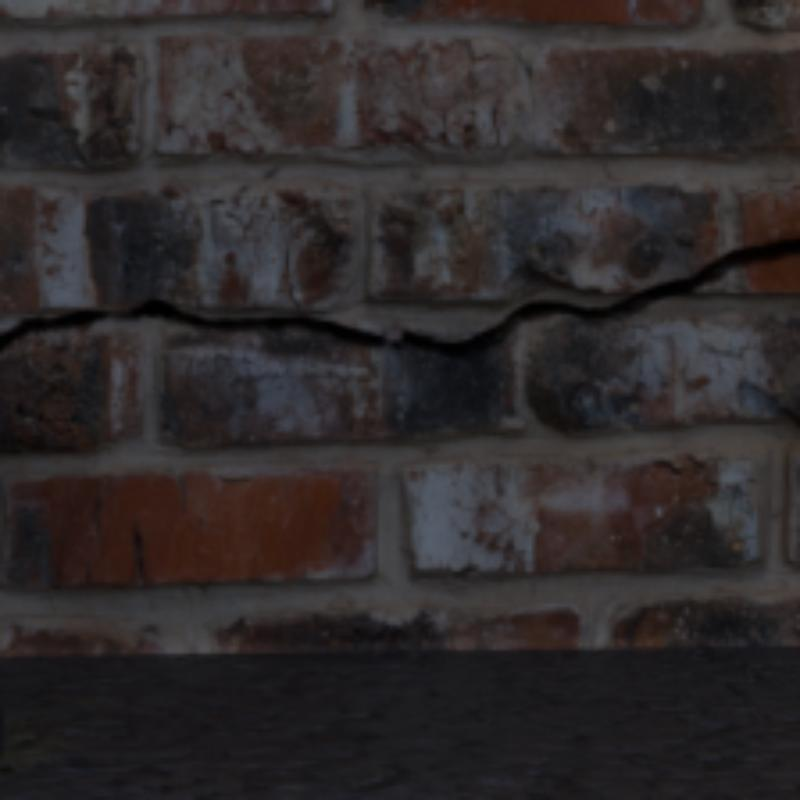pothole: (0, 236, 796, 357)
